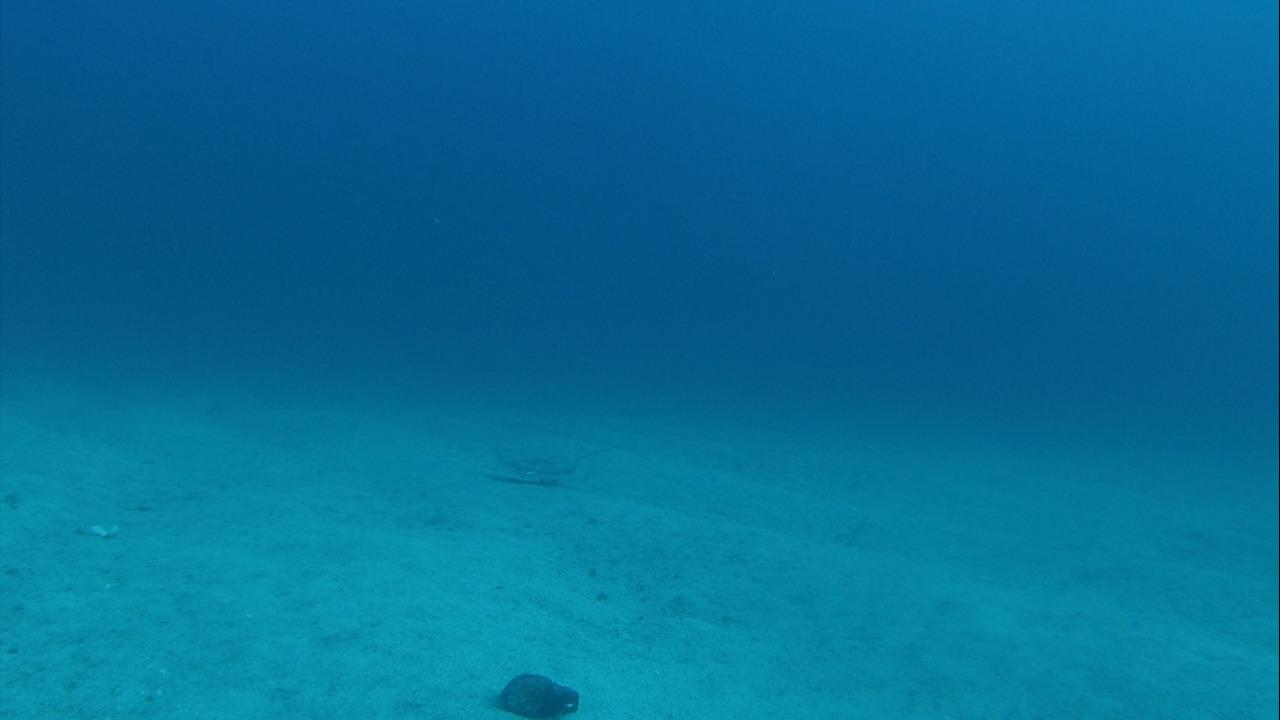myliobatis: (475, 434, 608, 489)
